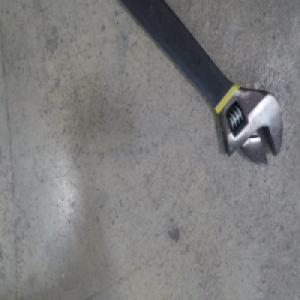AdjustableWrench: (117, 0, 282, 168)
